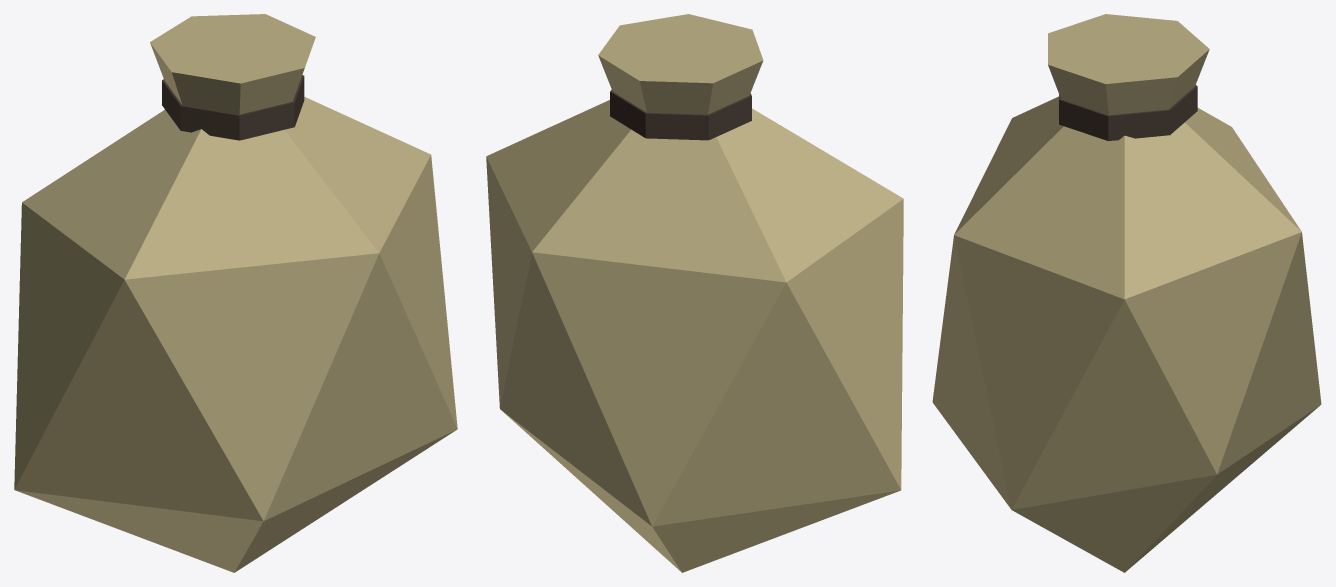
The model's file is sack.glb.
3 renders of one model, left to right at view 1: azimuth 30°, elevation 25°; view 2: azimuth 150°, elevation 25°; view 3: azimuth 270°, elevation 25°, orthographic.
Parts seen in each view (by area): view 1: sack; view 2: sack; view 3: sack.
Boxes of the visible parts, x1,y1,x2,y2 form: sack: (14, 14, 457, 572); sack: (486, 14, 903, 572); sack: (932, 14, 1321, 572).
Size of the model in its own units: 0.7891 by 0.9502 by 0.6395.
